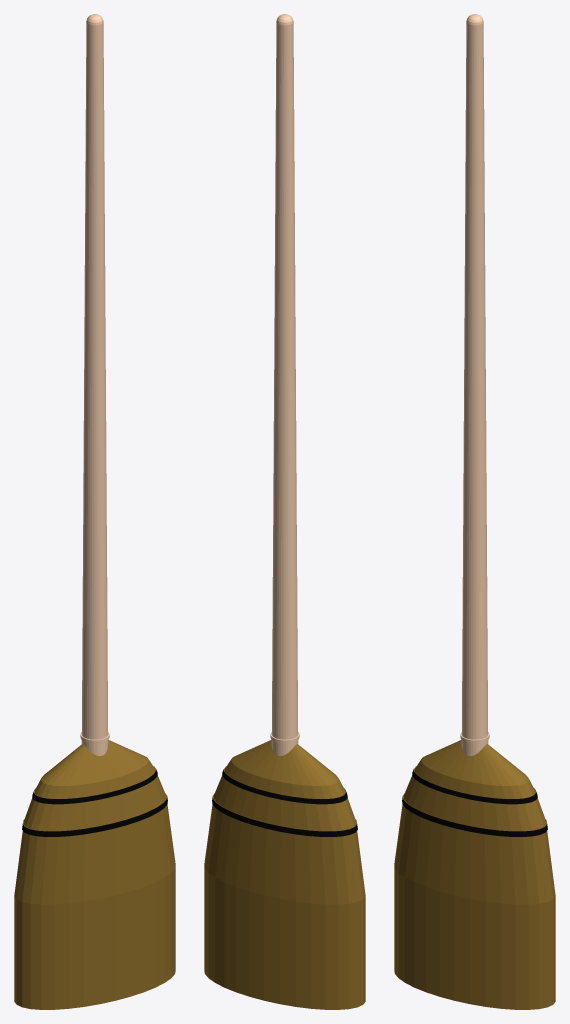
The model's file is broom.fbx.
The picture shows the model from 3 angles, left to right: view 1: azimuth 30°, elevation 25°; view 2: azimuth 150°, elevation 25°; view 3: azimuth 330°, elevation 25°; orthographic projection.
Visible parts, largest first — view 1: Cylinder.001, Cylinder, Cylinder.002, Cylinder.003; view 2: Cylinder.001, Cylinder, Cylinder.002, Cylinder.003; view 3: Cylinder.001, Cylinder, Cylinder.002, Cylinder.003.
Part boxes in pixels (x1=…): Cylinder.001: x1=14, y1=740, x2=175, y2=1009; Cylinder: x1=80, y1=14, x2=109, y2=756; Cylinder.002: x1=22, y1=796, x2=167, y2=836; Cylinder.003: x1=32, y1=769, x2=157, y2=804; Cylinder.001: x1=204, y1=740, x2=365, y2=1009; Cylinder: x1=270, y1=14, x2=299, y2=756; Cylinder.002: x1=212, y1=796, x2=357, y2=836; Cylinder.003: x1=222, y1=769, x2=347, y2=804; Cylinder.001: x1=394, y1=740, x2=555, y2=1009; Cylinder: x1=460, y1=14, x2=489, y2=756; Cylinder.002: x1=402, y1=796, x2=547, y2=836; Cylinder.003: x1=412, y1=769, x2=537, y2=804.
Bounding box in the file's own units: 300 × 1778 × 137.
